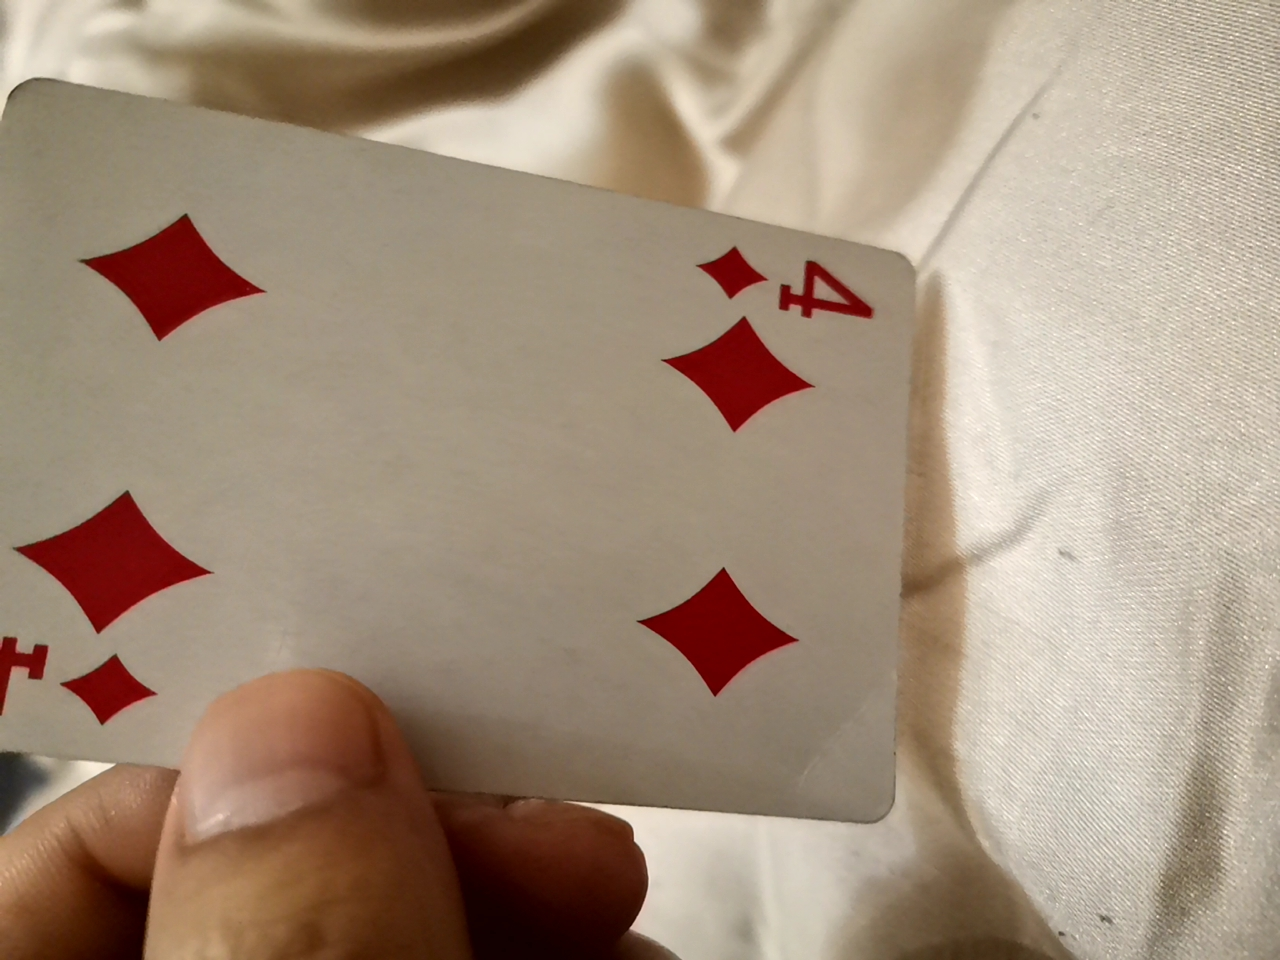fk 4: (0, 87, 988, 886)
